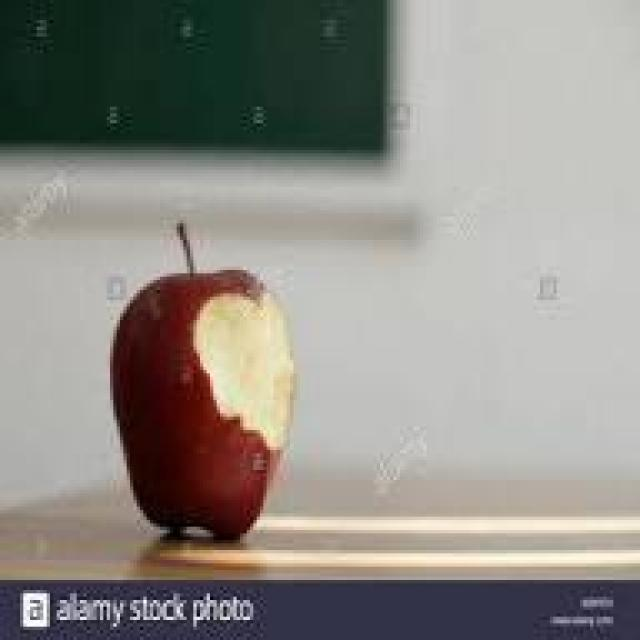apple: (106, 263, 296, 537)
